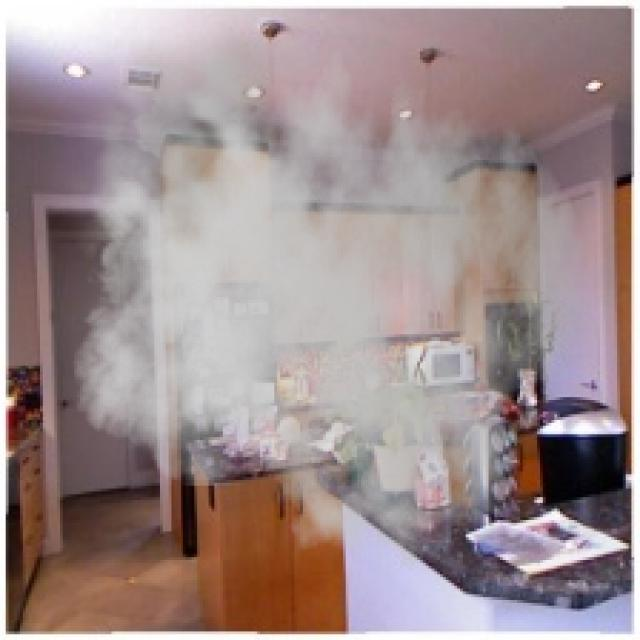smoke: (57, 14, 586, 572)
